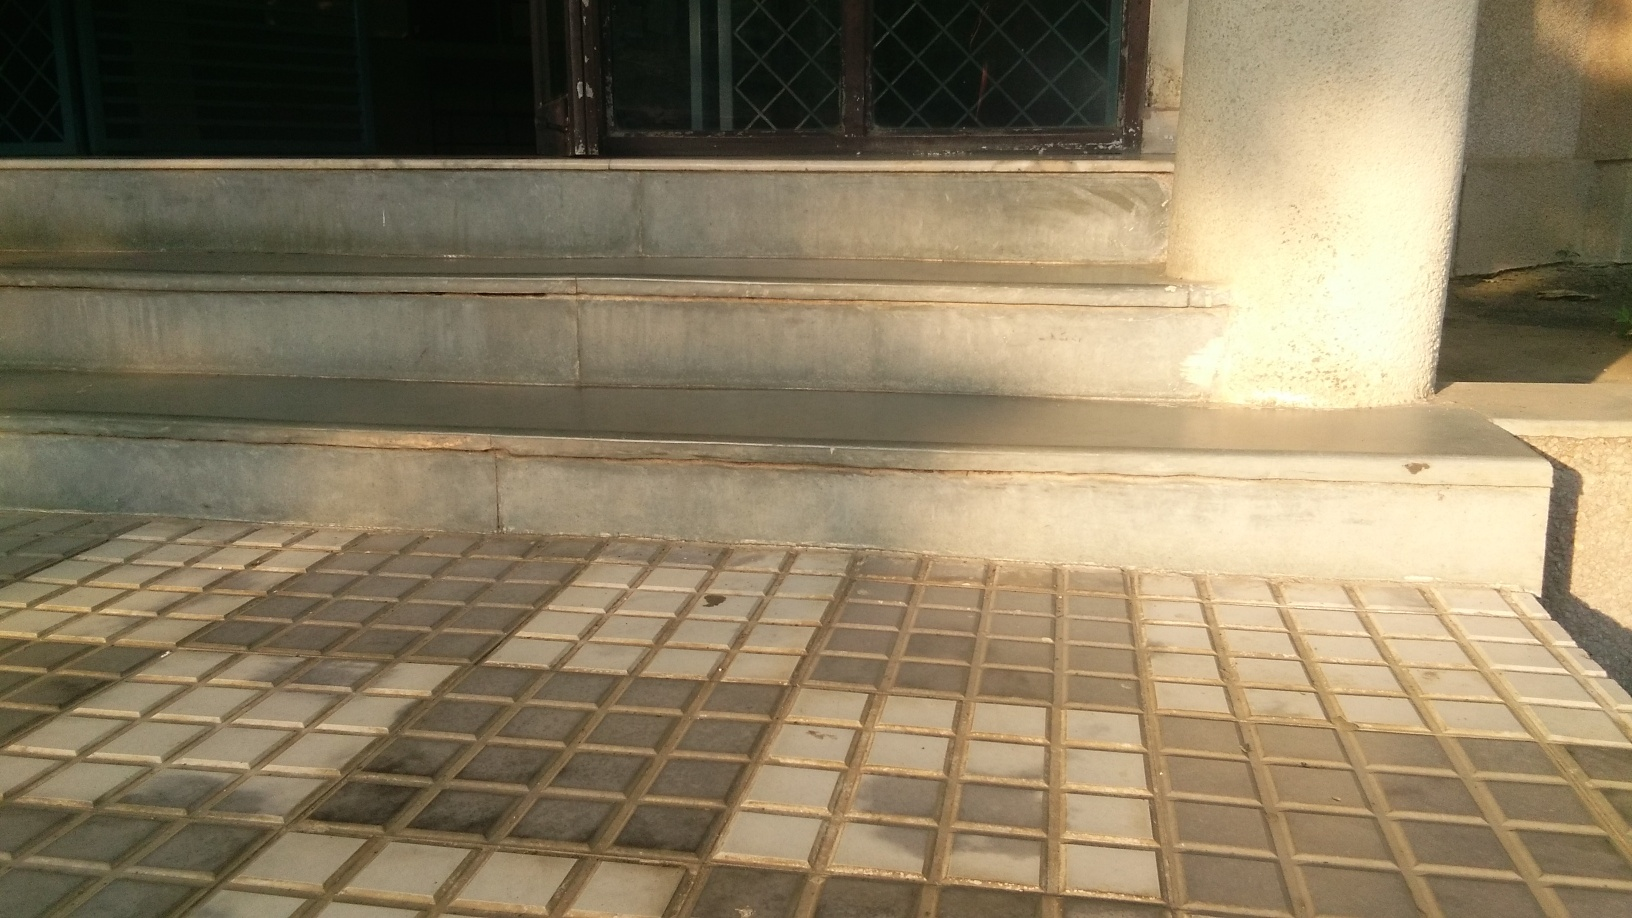stairs_up: (1, 123, 1415, 600), (3, 152, 1542, 529)
